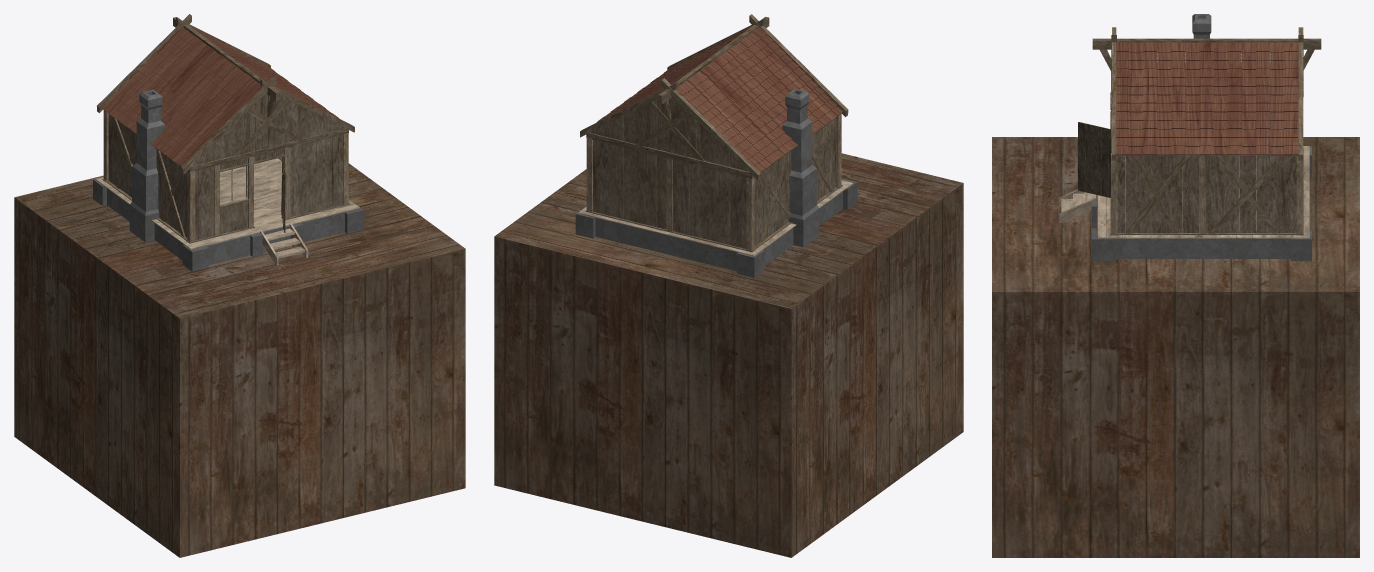
3 renders of one model, left to right at view 1: azimuth 30°, elevation 25°; view 2: azimuth 150°, elevation 25°; view 3: azimuth 270°, elevation 25°, orthographic. The views are drawn at different scales.
Visible parts, largest first — view 1: Cube, Simple.002, Simple.001, Simple.005, Simple.003, Simple; view 2: Cube, Simple.002, Simple.001, Simple.005, Simple.003, Simple; view 3: Cube, Simple.001, Simple.002, Simple.005, Simple.003, Simple, Door.
Boxes of the visible parts, x1,y1,x2,y2 form: Cube: (14,163,465,557); Simple.002: (108,93,344,240); Simple.001: (101,27,338,166); Simple.005: (97,14,354,243); Simple.003: (93,89,364,271); Simple: (95,158,359,264); Cube: (494,153,963,557); Simple.002: (591,96,836,248); Simple.001: (596,27,843,172); Simple.005: (580,14,848,252); Simple.003: (575,89,857,277); Simple: (578,180,853,256); Cube: (992,137,1359,557); Simple.001: (1116,42,1298,154); Simple.002: (1117,72,1296,232); Simple.005: (1092,27,1321,235); Simple.003: (1091,14,1311,261); Simple: (1059,146,1309,238); Door: (1078,122,1110,197).
Size of the model in its own units: 1.4 by 1.89 by 1.4.
7 materials, 7 textured.
